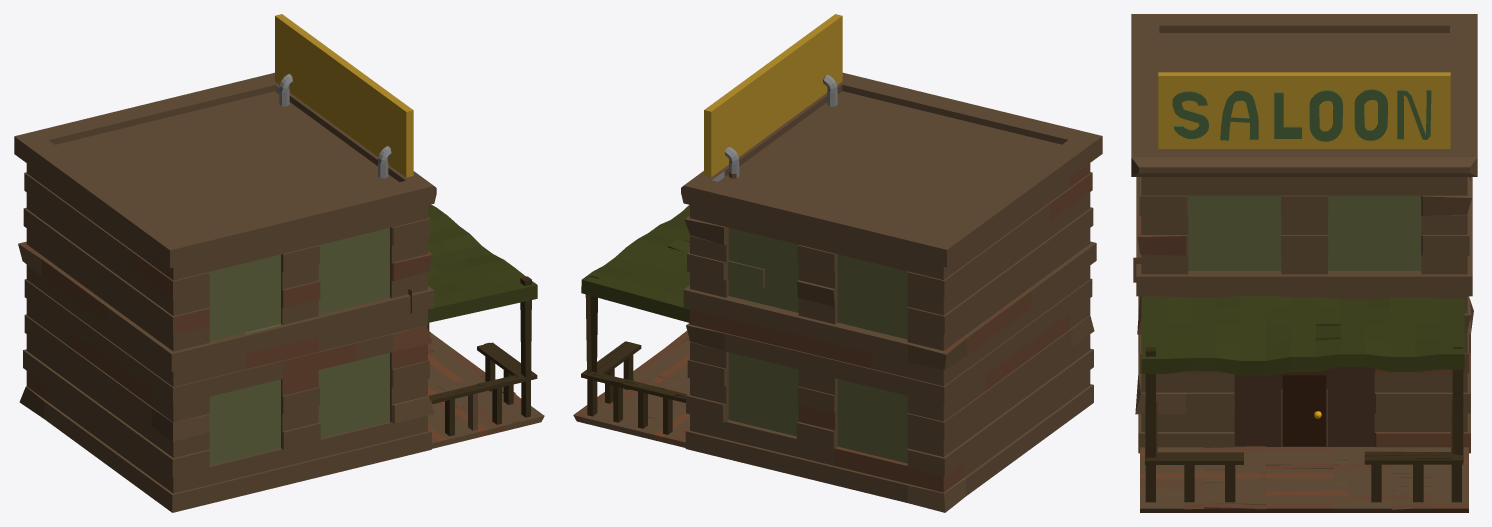
File: building1.fbx
3 renders of one model, left to right at view 1: azimuth 30°, elevation 25°; view 2: azimuth 150°, elevation 25°; view 3: azimuth 270°, elevation 25°, orthographic. The views are drawn at different scales.
Visible parts, largest first — view 1: Cube.001; view 2: Cube.001; view 3: Cube.001.
Boxes of the visible parts, left/top/right/bottom form: Cube.001: left=14, top=14, right=544, bottom=512; Cube.001: left=573, top=14, right=1102, bottom=512; Cube.001: left=1131, top=14, right=1477, bottom=512.
Size of the model in its own units: 1231 by 1041 by 878.
